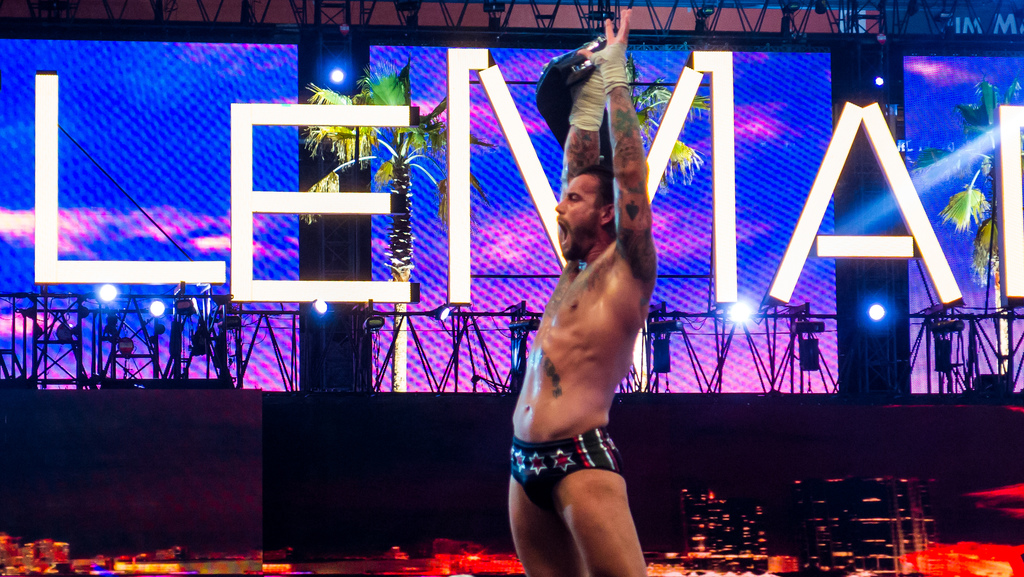Person: (507, 9, 658, 576)
